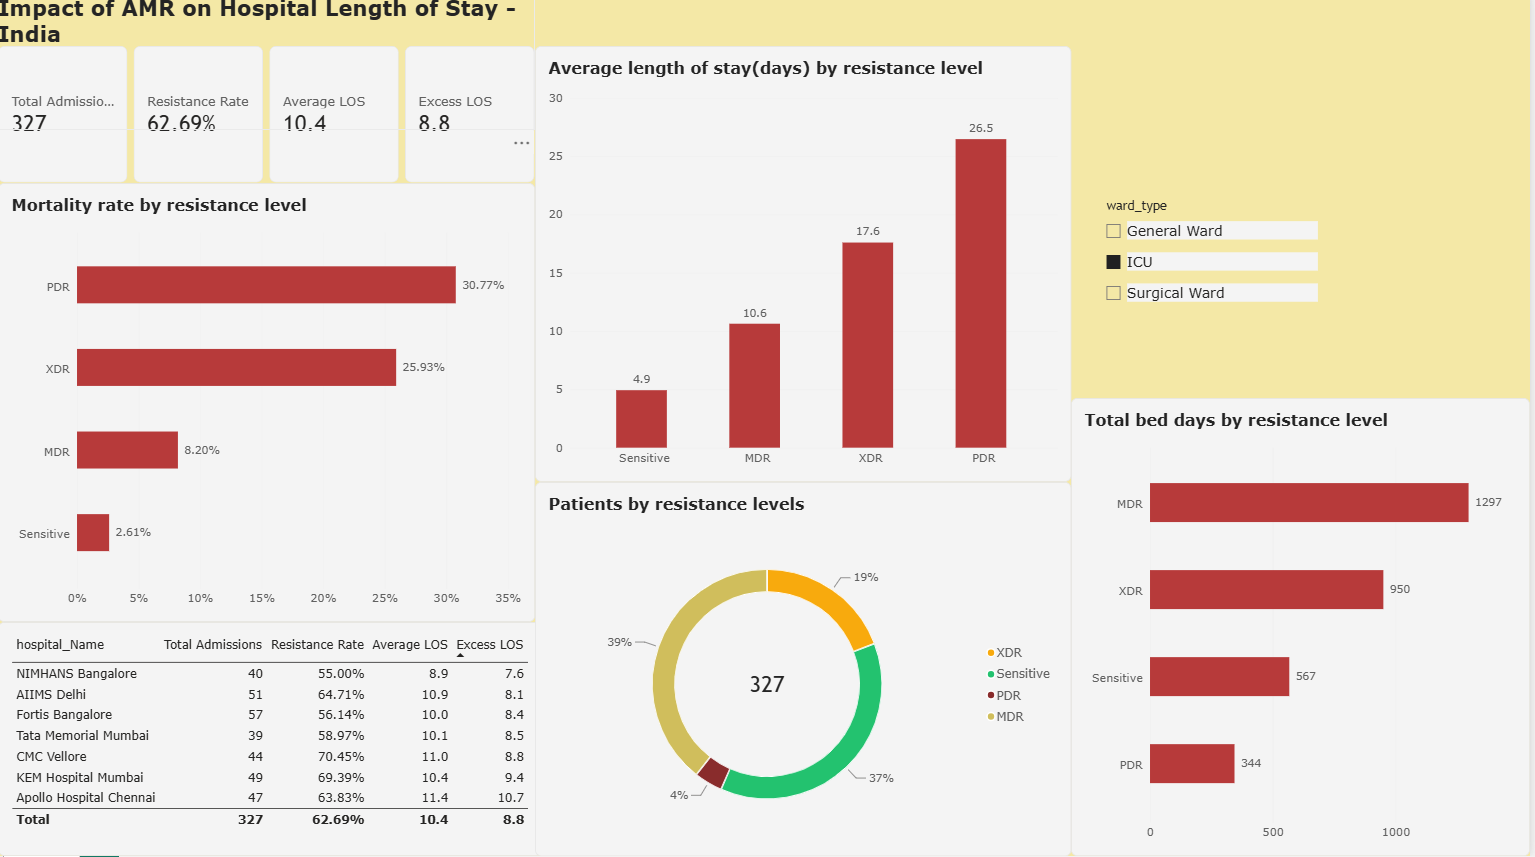

The page's visual inventory and layout, read from the dashboard file:
{"tool":"powerbi","page":{"name":"Page 1","canvas":[1920,1080],"ordinal":0},"visuals":[{"type":"tableEx","fields":{"Values":["dim_hospital.hospital_Name","fact_admissions.Total Admissions","fact_admissions.Resistance Rate","fact_admissions.Average LOS","fact_admissions.Excess LOS"]},"box":[0,786.4,659.5,293.3],"z":0},{"type":"cardVisual","fields":{"Data":["fact_admissions.Total Admissions","fact_admissions.Resistance Rate","fact_admissions.Average LOS","fact_admissions.Excess LOS"]},"box":[0,65.7,658,170.7],"z":1},{"type":"clusteredBarChart","title":"Mortality rate by resistance level","fields":{"Category":["fact_admissions.resistance_profile"],"Y":["fact_admissions.Mortality Rate"]},"box":[0,236.4,658,550],"z":2},{"type":"clusteredColumnChart","title":"Average length of stay(days) by resistance level","fields":{"Category":["fact_admissions.resistance_profile"],"Y":["fact_admissions.Average LOS"]},"box":[658,65.7,672.6,545.7],"z":3},{"type":"slicer","fields":{"Values":["fact_admissions.ward_type"]},"box":[1380.2,255.3,272.8,148.8],"z":4},{"type":"textbox","box":[0,0,673,171],"z":5},{"type":"donutChart","title":"Patients by resistance levels","fields":{"Category":["fact_admissions.resistance_profile"],"Y":["fact_admissions.Total Admissions"]},"box":[659.5,611.3,671.1,468.3],"z":6},{"type":"clusteredBarChart","title":"Total bed days by resistance level","fields":{"Category":["fact_admissions.resistance_profile"],"Y":["fact_admissions.Total Bed Days"]},"box":[1330.6,506.3,589.4,573.4],"z":7}]}

Visuals, with their boxes in screenshot pixels (x1, y1, x2, y2), scaled from the page's 1920x1080 canvas onto the 1535x857 screenshot:
tableEx - dim_hospital.hospital_Name x fact_admissions.Total Admissions: (left=0, top=624, right=527, bottom=856)
cardVisual - fact_admissions.Total Admissions x fact_admissions.Resistance Rate: (left=0, top=52, right=526, bottom=188)
"Mortality rate by resistance level" clusteredBarChart: (left=0, top=188, right=526, bottom=624)
"Average length of stay(days) by resistance level" clusteredColumnChart: (left=526, top=52, right=1064, bottom=485)
slicer - fact_admissions.ward_type: (left=1103, top=203, right=1322, bottom=321)
textbox: (left=0, top=0, right=538, bottom=136)
"Patients by resistance levels" donutChart: (left=527, top=485, right=1064, bottom=856)
"Total bed days by resistance level" clusteredBarChart: (left=1064, top=402, right=1534, bottom=856)
